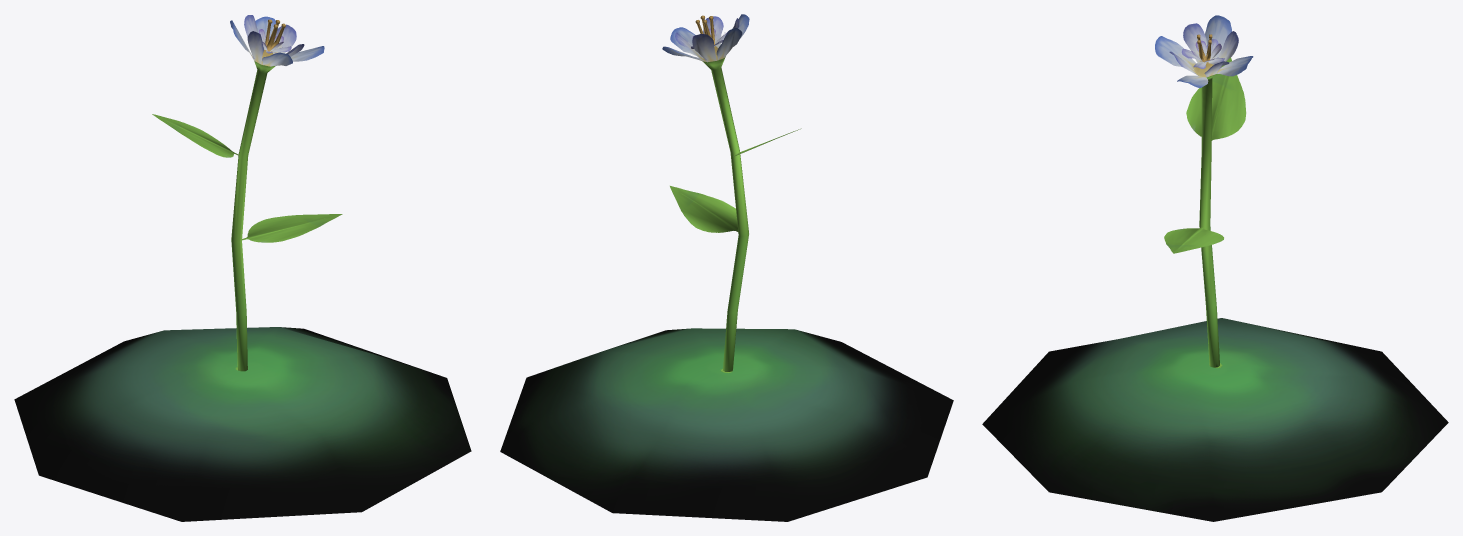
Rendered from Flower.fbx.
The picture shows the model from 3 angles, left to right: view 1: azimuth 30°, elevation 25°; view 2: azimuth 150°, elevation 25°; view 3: azimuth 270°, elevation 25°; orthographic projection.
Parts seen in each view (by area): view 1: Flower; view 2: Flower; view 3: Flower.
Boxes of the visible parts, left/top/right/bottom form: Flower: left=14, top=15, right=471, bottom=521; Flower: left=500, top=14, right=953, bottom=521; Flower: left=982, top=15, right=1448, bottom=521.
Bounding box in the file's own units: 273 × 260 × 273.
1 material, 1 textured.
